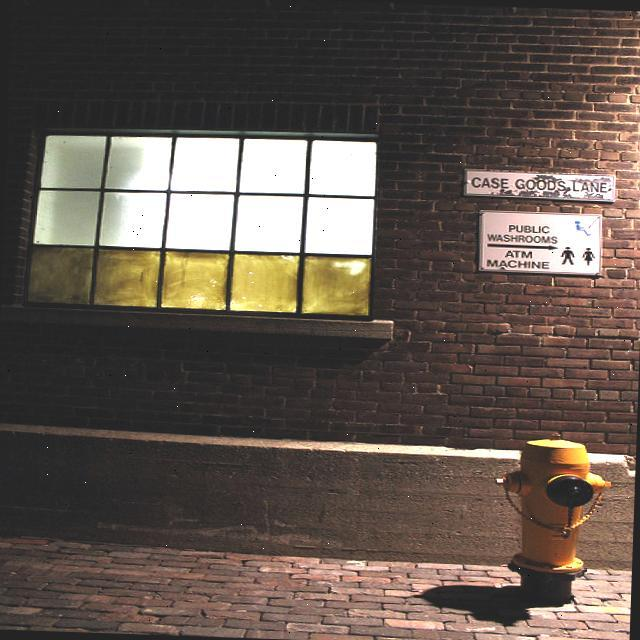fire_hydrant: (489, 429, 612, 608)
